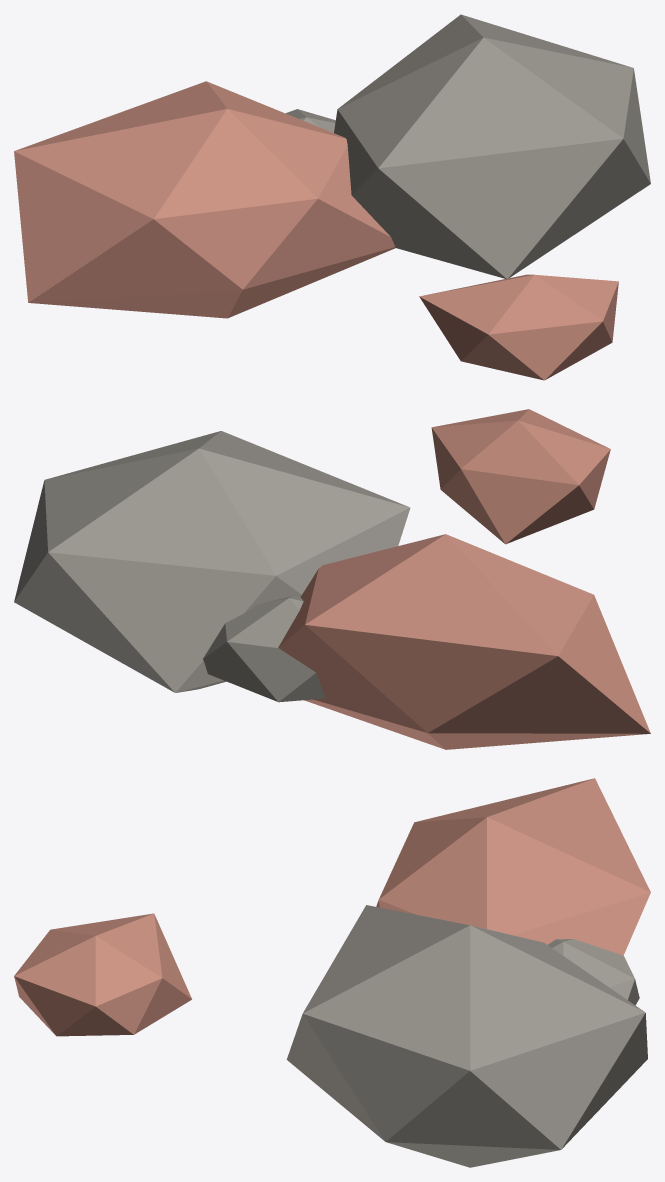
File: stenar_2.glb
3 renders of one model, top to bottom at view 1: azimuth 30°, elevation 25°; view 2: azimuth 150°, elevation 25°; view 3: azimuth 270°, elevation 25°, orthographic. The views are drawn at different scales.
Visible parts, largest first — view 1: stenar_2; view 2: stenar_2; view 3: stenar_2.
Part boxes in pixels (box(x1,y1,x2,y2)): stenar_2: box(14, 14, 650, 380); stenar_2: box(14, 409, 650, 749); stenar_2: box(14, 778, 650, 1167).
Bounding box in the file's own units: 1.37 × 0.5113 × 1.22.
